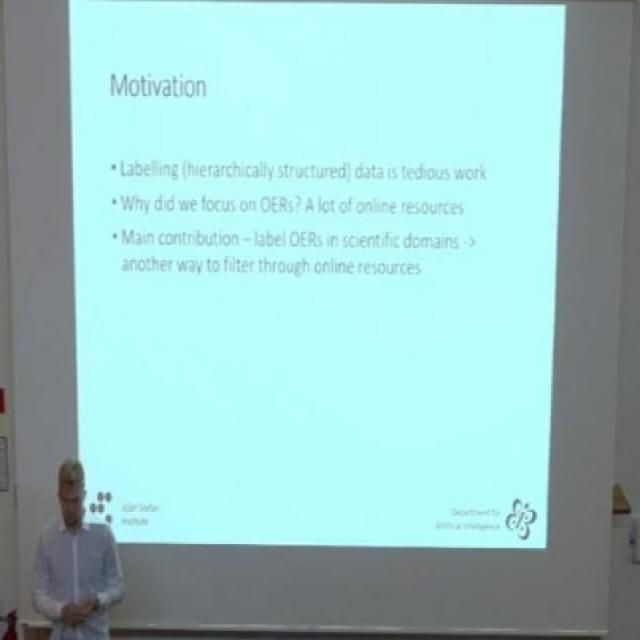Instructor: (27, 452, 121, 640)
Slide: (70, 2, 563, 549)
